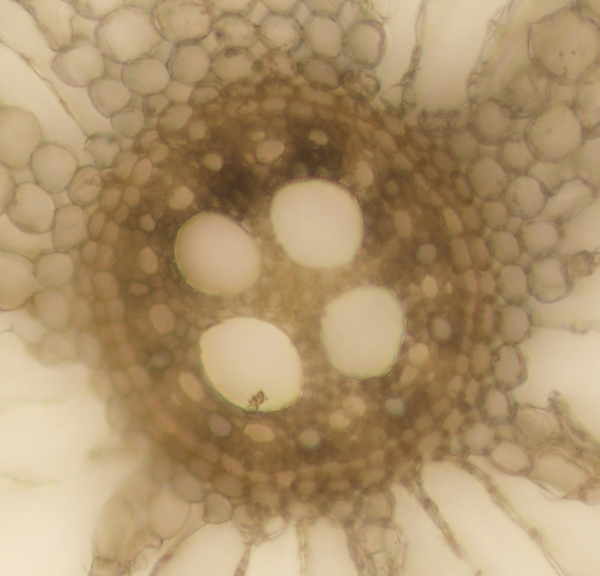lm: (199, 317, 306, 412), (271, 178, 365, 272), (319, 282, 406, 378), (174, 210, 262, 294)
